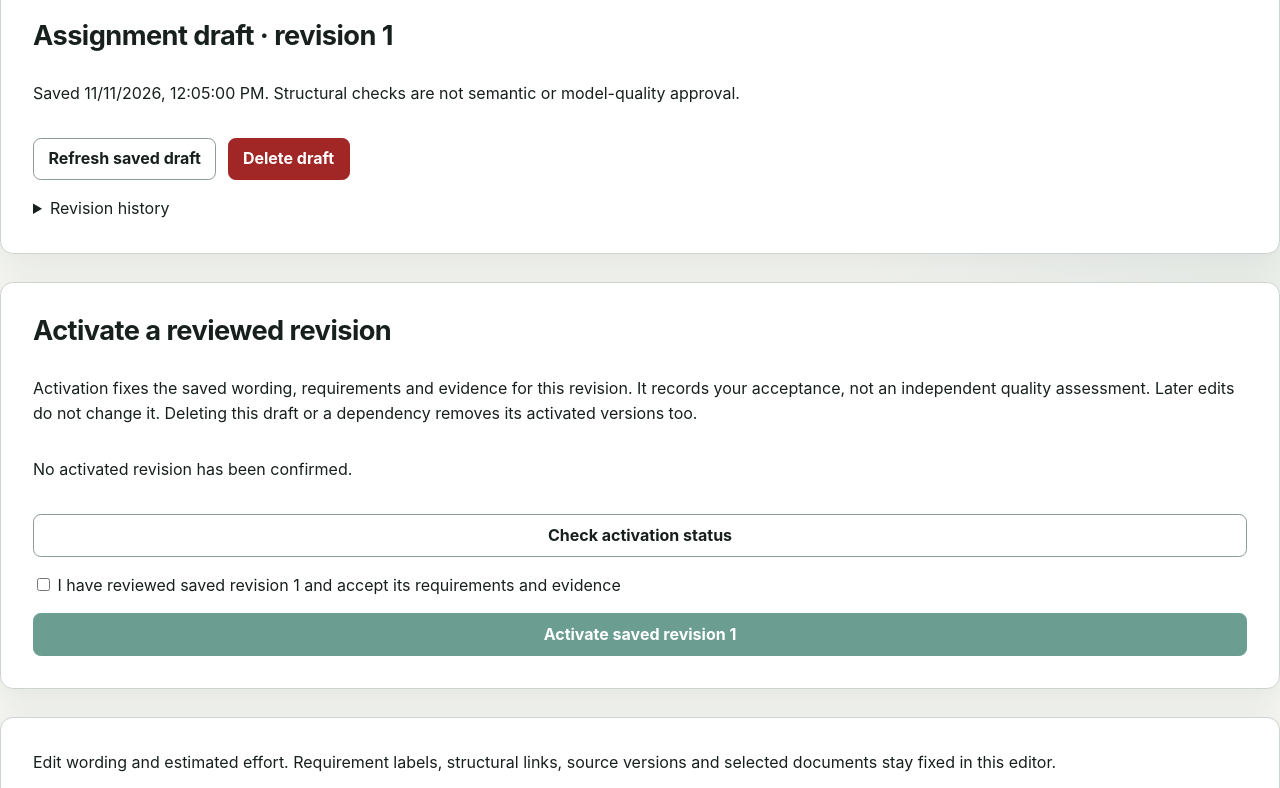
Test: explicit reviewed assignment activation › does not activate on open, requires explicit review and blocks dirty/history/archive states
Check: the button "Activate saved revision 1" is disabled, box x1=33 y1=613 x2=1247 y2=656
Click the checkbox labelled "I have reviewed saved revision" at (44, 584), box x1=37 y1=578 x2=50 y2=590
(page scrolled)
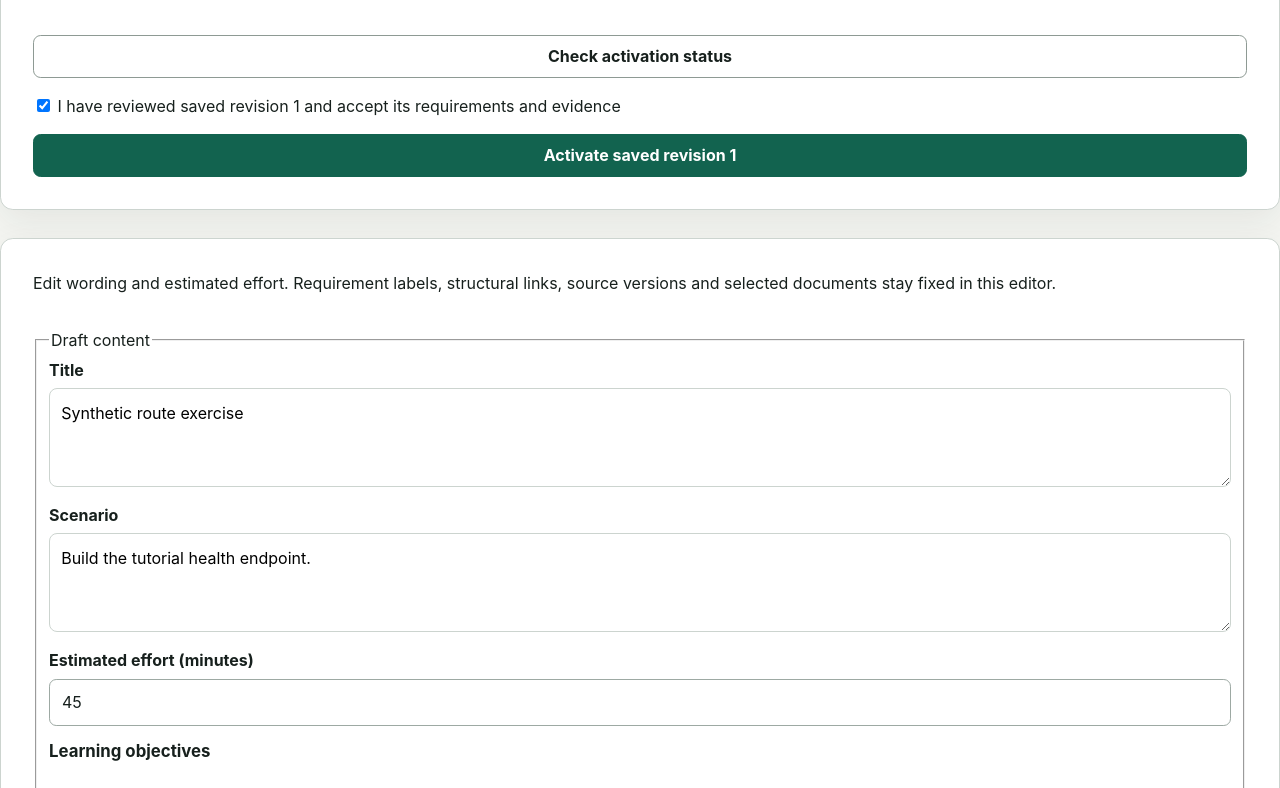
Check: the button "Activate saved revision 1" is enabled, box x1=33 y1=134 x2=1247 y2=177
Replace the text in the text box labelled "Title" with "Unreviewed edit" at (640, 438), box x1=49 y1=388 x2=1231 y2=487
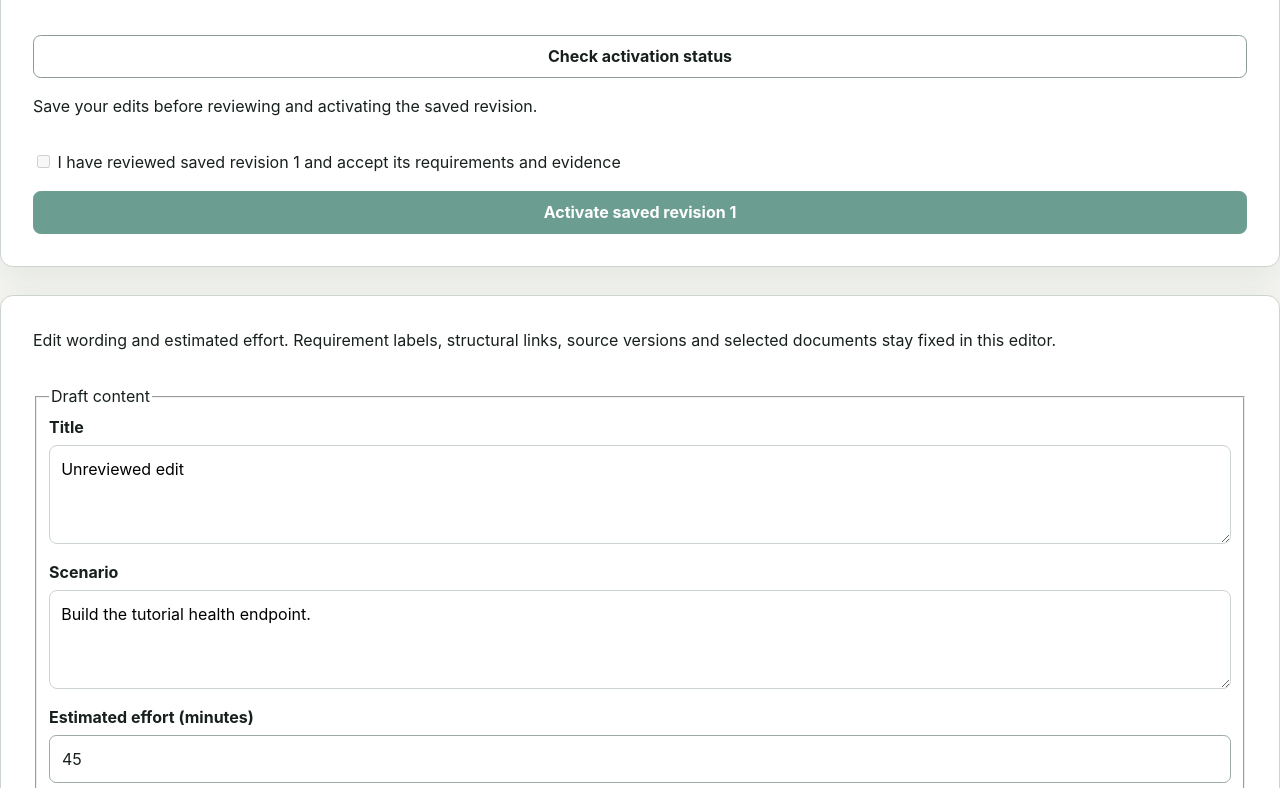
Check: the checkbox labelled "I have reviewed saved revision" is not checked, box x1=37 y1=155 x2=50 y2=168
Check: the button "Activate saved revision 1" is disabled, box x1=33 y1=191 x2=1247 y2=234
